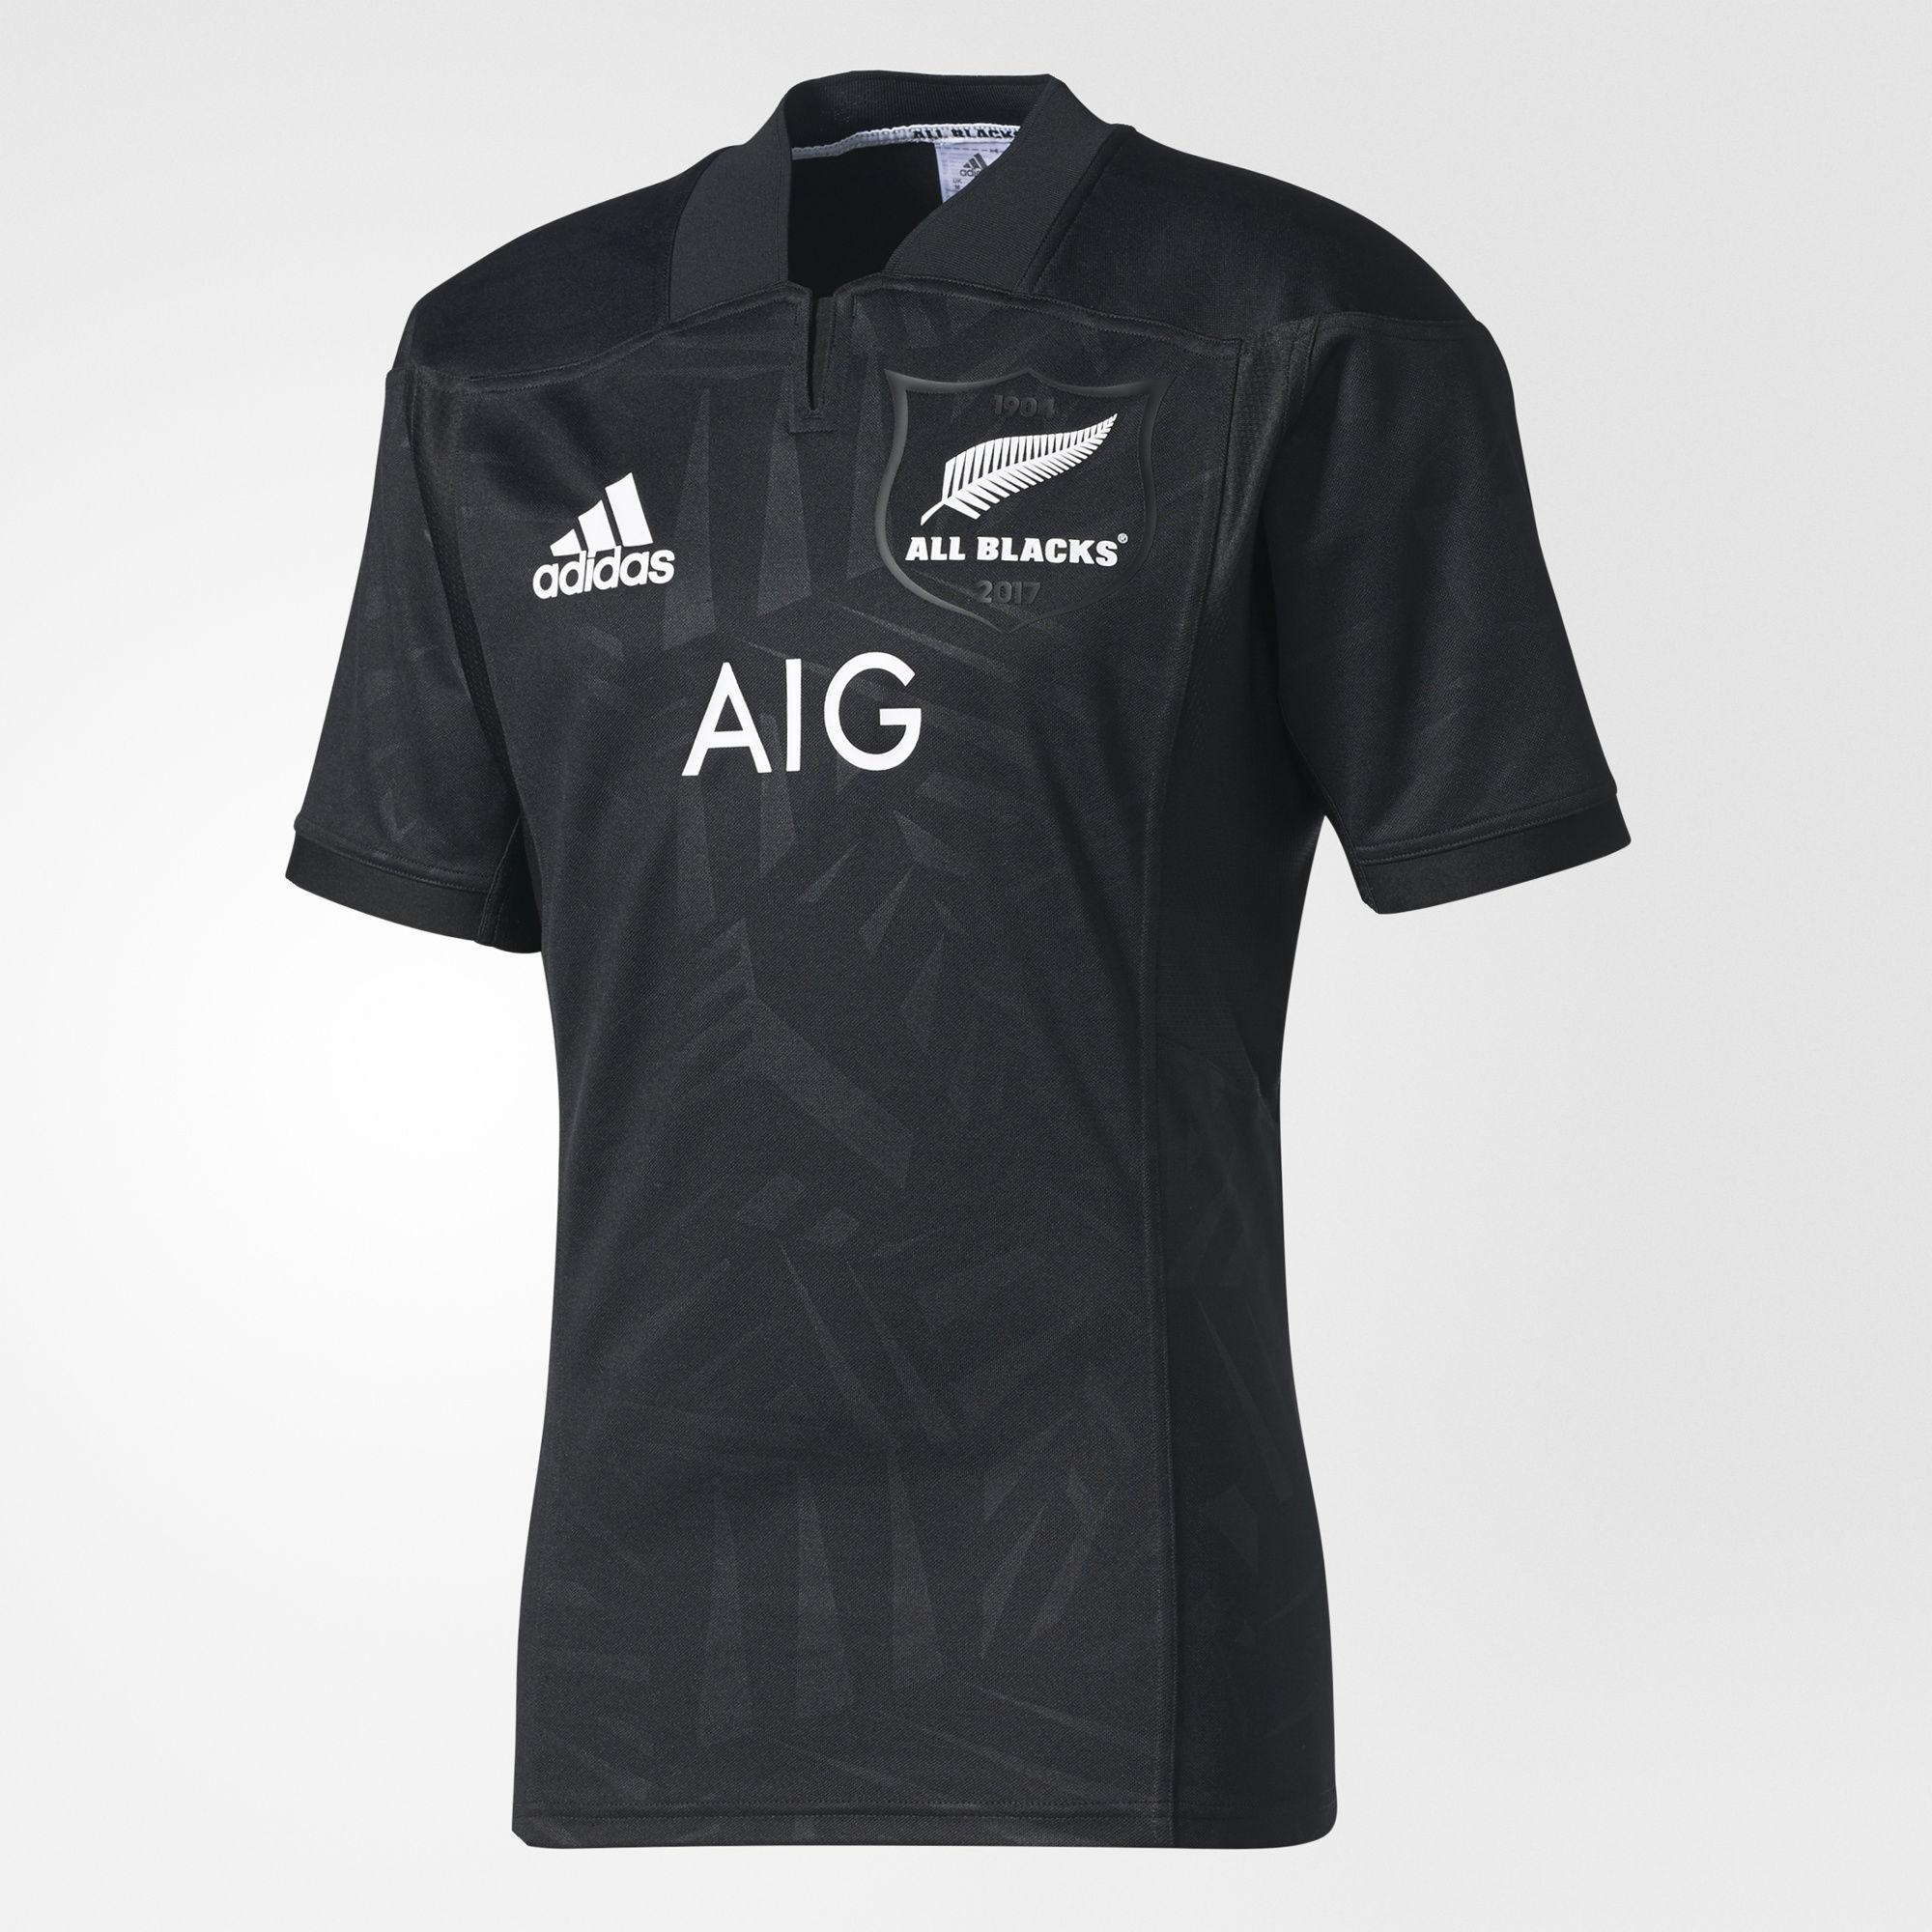teeshirt: (265, 42, 1698, 1877)
